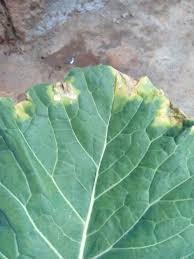Bok-Choy-Diseased: (0, 62, 194, 259)
